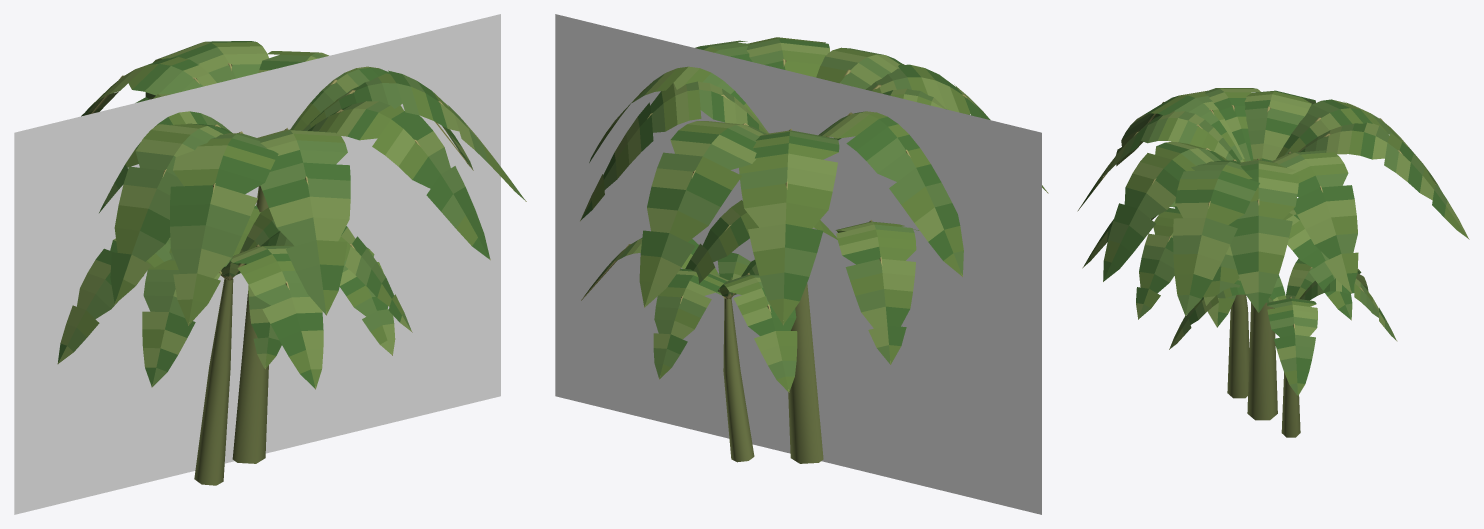
File: banana.glb
3 renders of one model, left to right at view 1: azimuth 30°, elevation 25°; view 2: azimuth 150°, elevation 25°; view 3: azimuth 270°, elevation 25°, orthographic. The views are drawn at different scales.
Visible parts, largest first — view 1: veg_banana_billboard, veg_banana_lod0; view 2: veg_banana_billboard, veg_banana_lod0; view 3: veg_banana_lod0.
Boxes of the visible parts, x1,y1,x2,y2 form: veg_banana_billboard: [14, 14, 500, 514]; veg_banana_lod0: [57, 41, 526, 485]; veg_banana_billboard: [555, 14, 1041, 514]; veg_banana_lod0: [580, 37, 1048, 463]; veg_banana_lod0: [1077, 88, 1469, 437].
Size of what is drawn, in the model's own units: 4.47 by 3.36 by 3.86.
